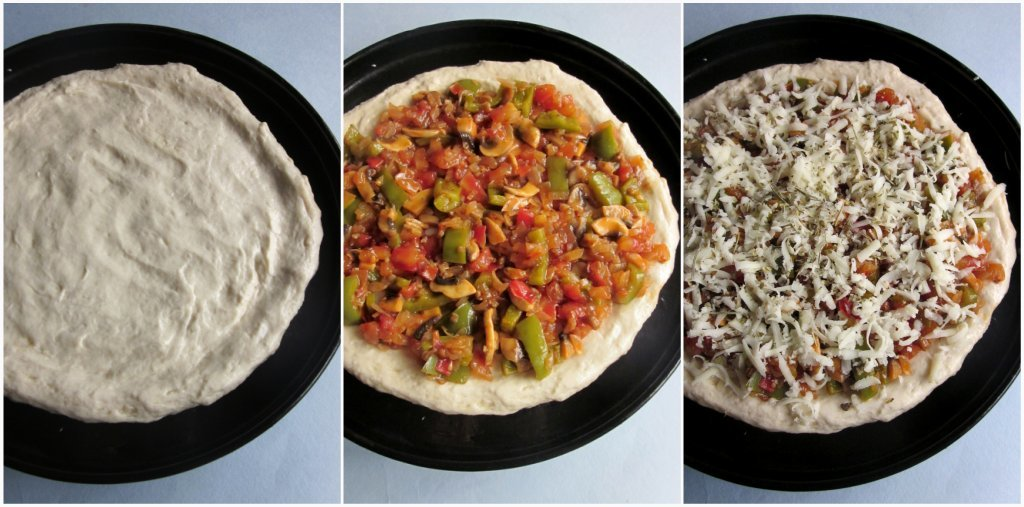Pizza: (679, 54, 1022, 434), (341, 56, 679, 416)
